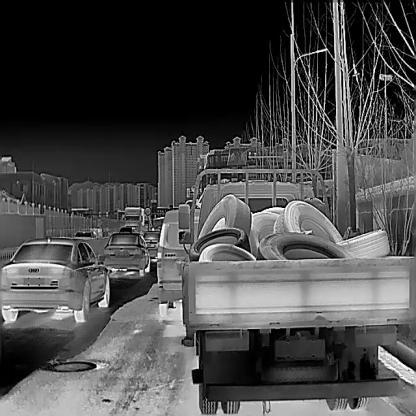car: (175, 163, 415, 415), (0, 232, 110, 322), (155, 206, 203, 317), (99, 233, 151, 276), (142, 229, 163, 259), (120, 206, 146, 230), (72, 229, 100, 240), (119, 226, 133, 232)
